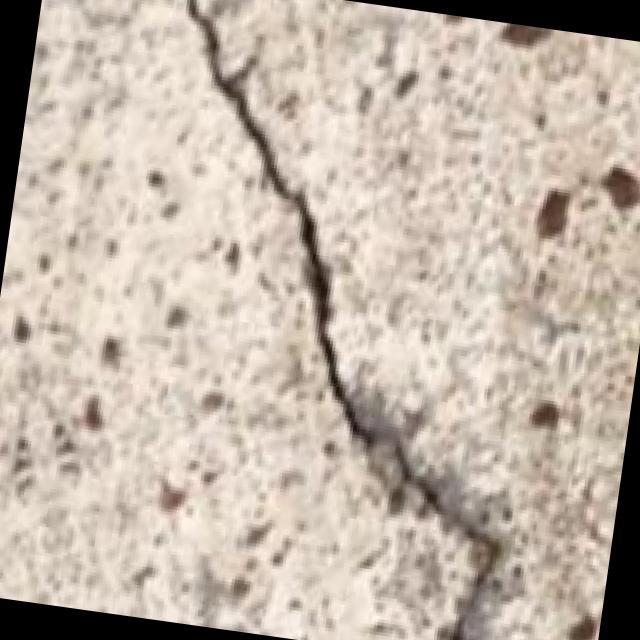crack: (57, 0, 589, 640)
